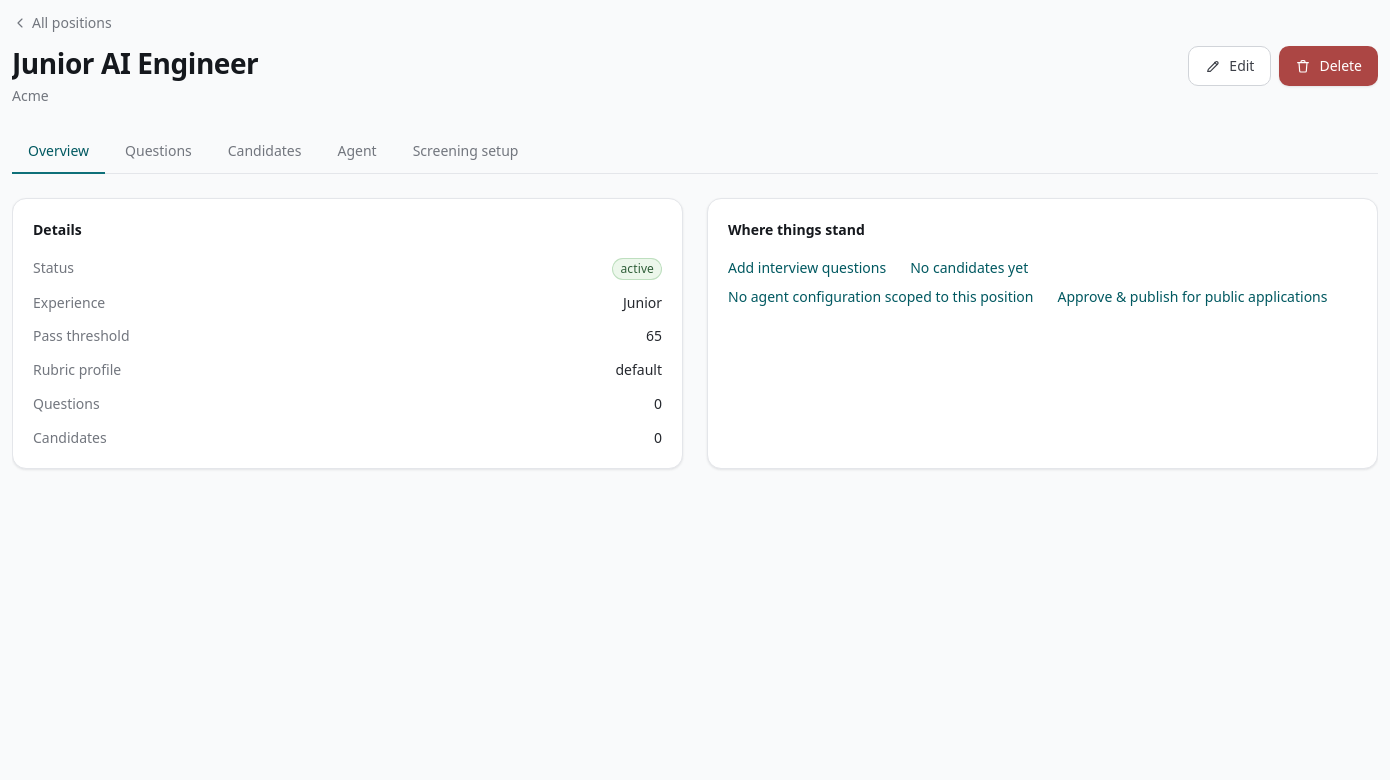
Scenario: PositionDetailPage › points to Agent Configuration when nothing is scoped to this position
Click the tab "Agent": (357, 152) [322,130,393,174]
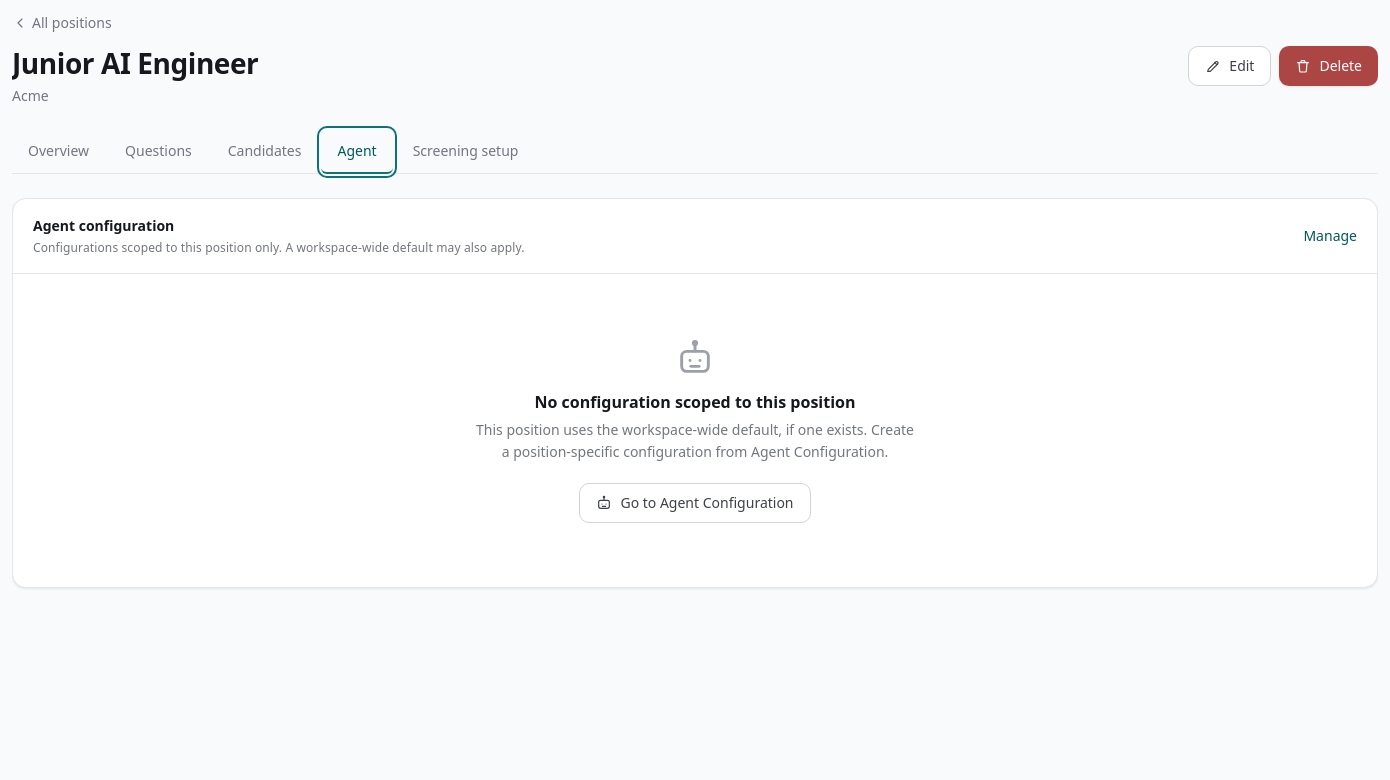
Now the heading "No configuration scoped to this position" is shown, box [534,390,856,415]
